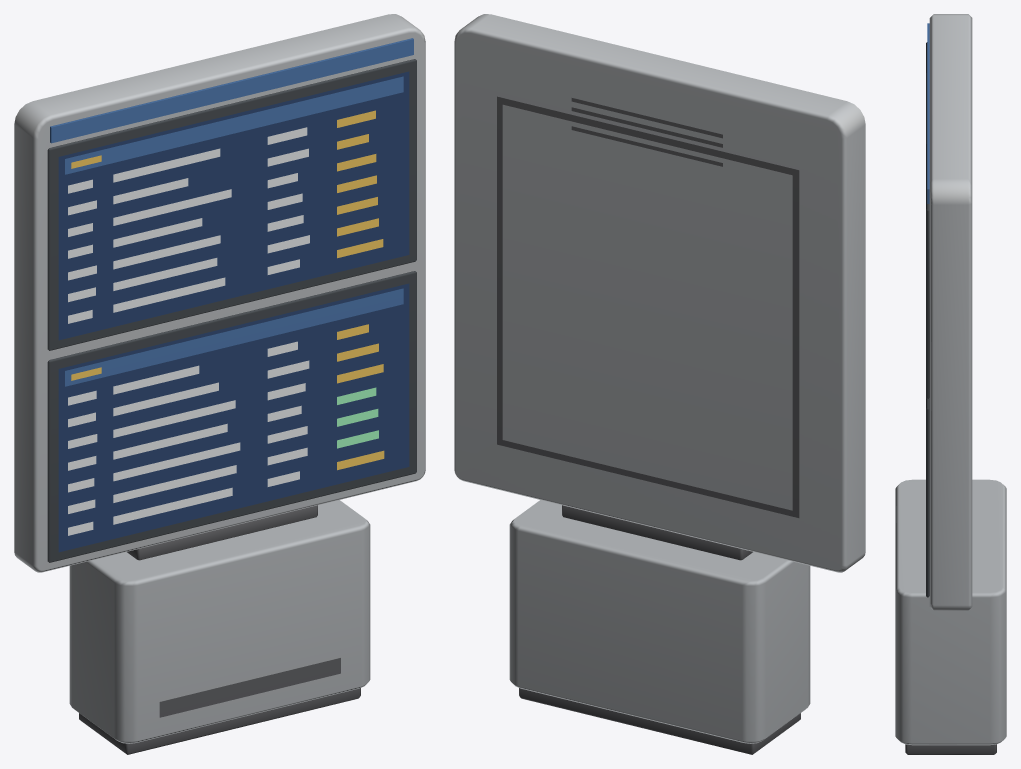
Rendered from fids.glb.
The picture shows the model from 3 angles, left to right: view 1: azimuth 30°, elevation 25°; view 2: azimuth 150°, elevation 25°; view 3: azimuth 270°, elevation 25°; orthographic projection. The views are drawn at different scales.
Parts seen in each view (by area): view 1: terminal_fids; view 2: terminal_fids; view 3: terminal_fids.
Part boxes in pixels (x1,y1,x2,y2): terminal_fids: [14, 14, 425, 754]; terminal_fids: [454, 14, 865, 754]; terminal_fids: [895, 14, 1006, 754].
Size of the model in its own units: 1.3 by 2.04 by 0.3435.
